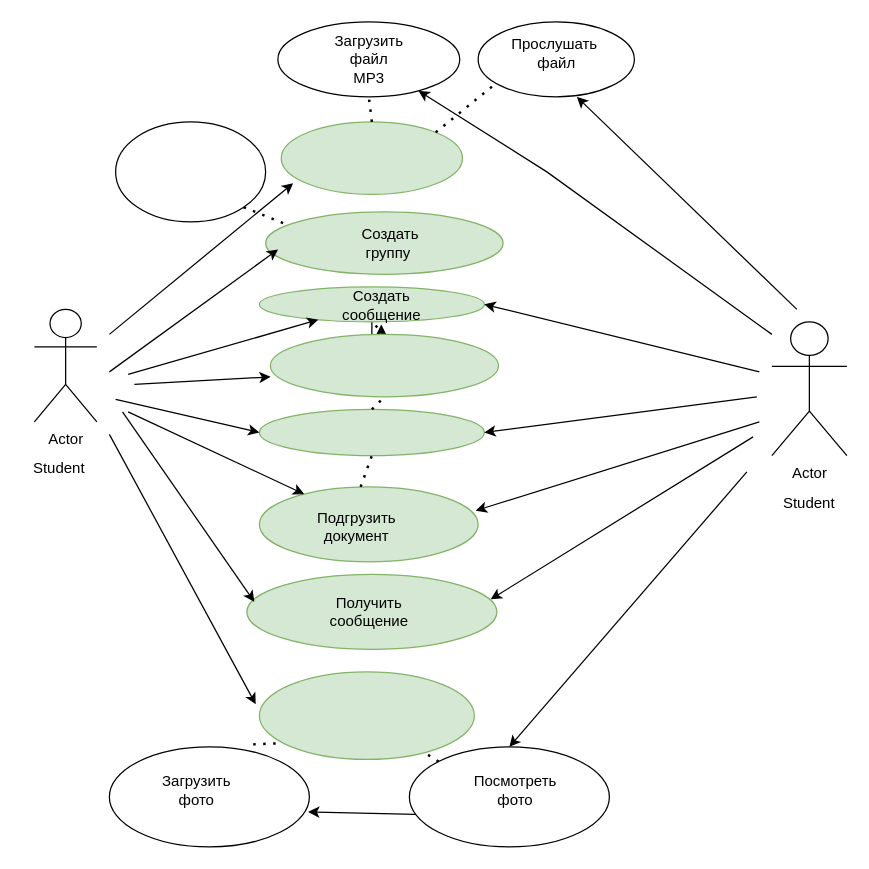
The diagram is 869 pixels wide and 869 high, and some of its shapes have lost their labels. Here are the shapes that lost their labels. From the top down, the centre of each, then its label:
At (x=190, y=171): "Добавить участников группы".
At (x=371, y=157): "Создать медиа альбом".
At (x=383, y=365): "Регистрация".
At (x=371, y=432): "Отправить сообщение".
At (x=366, y=715): "Создать фотоальбом".
